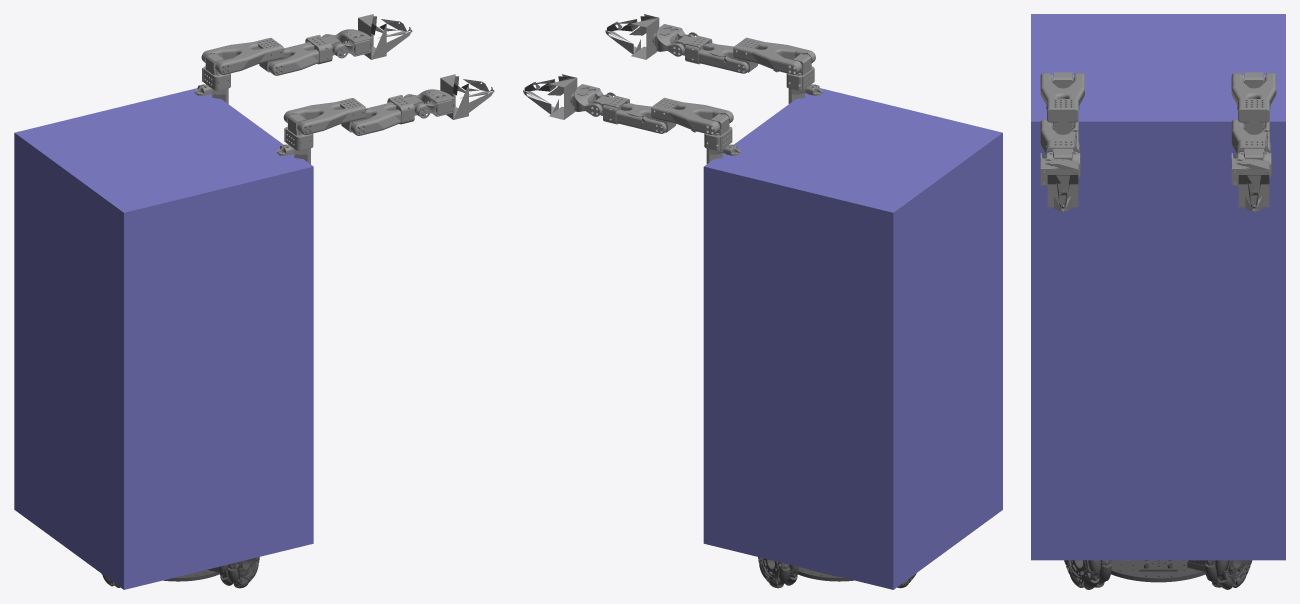
File: xlerobot.glb
3 renders of one model, left to right at view 1: azimuth 30°, elevation 25°; view 2: azimuth 150°, elevation 25°; view 3: azimuth 270°, elevation 25°, orthographic. The views are drawn at different scales.
Bounding box in the file's own units: 0.8098 × 0.9354 × 0.4.
